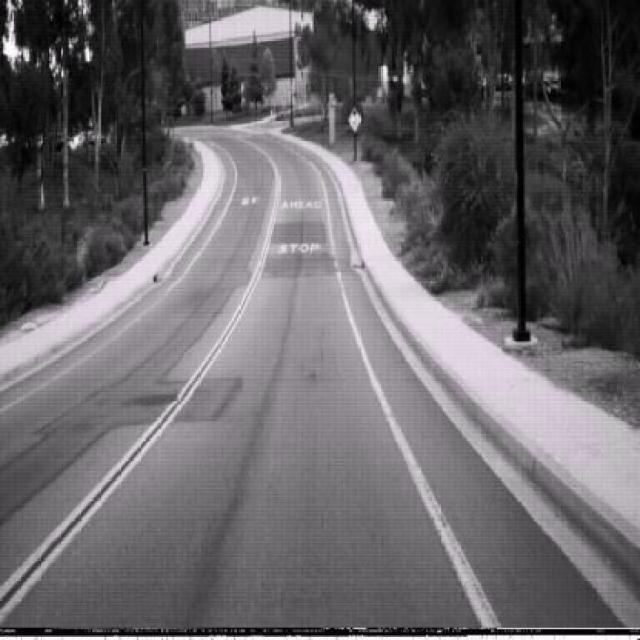stopAhead: (348, 106, 362, 133)
